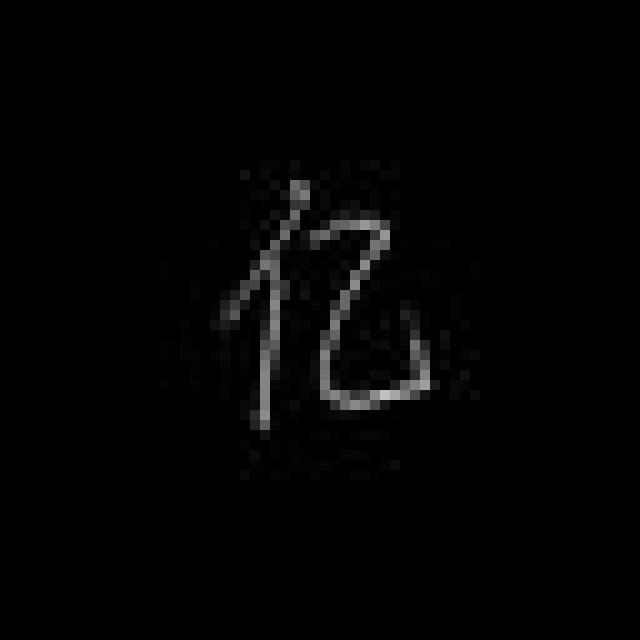100000 -a hundred thousand-: (212, 170, 443, 452)
